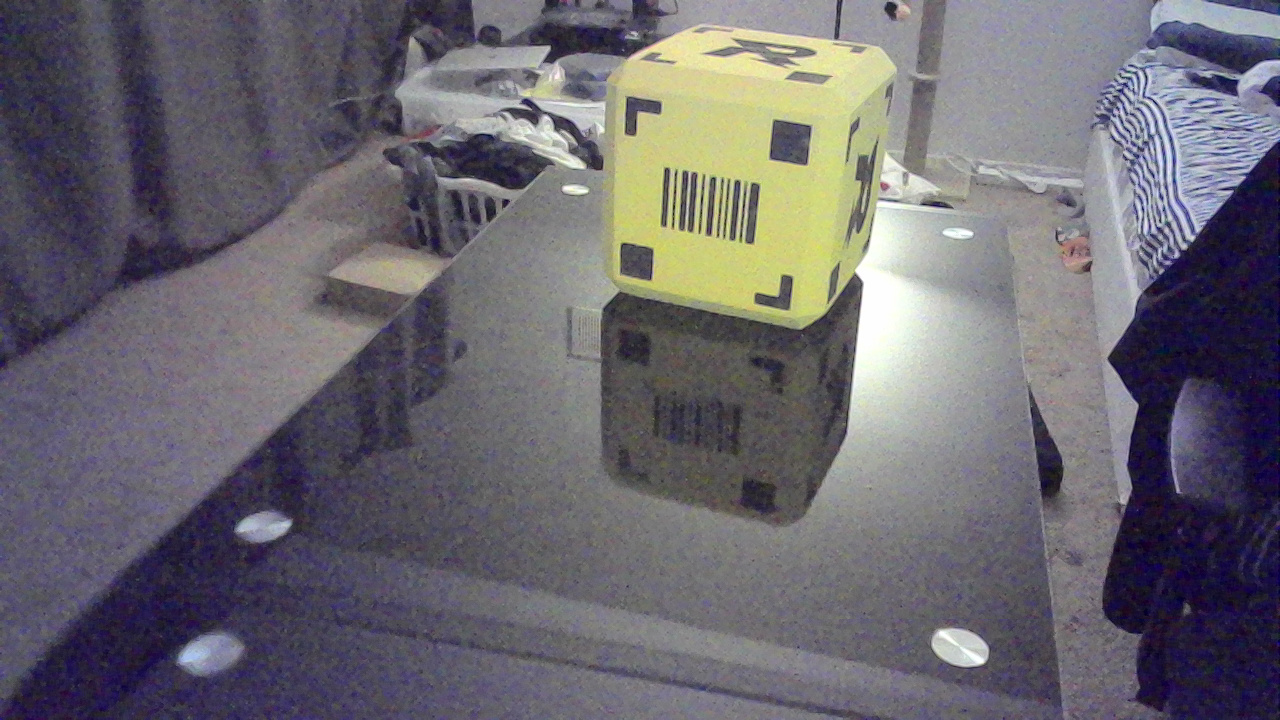Barcode: (660, 169, 764, 250)
R: (704, 37, 832, 87), (849, 135, 887, 264)
